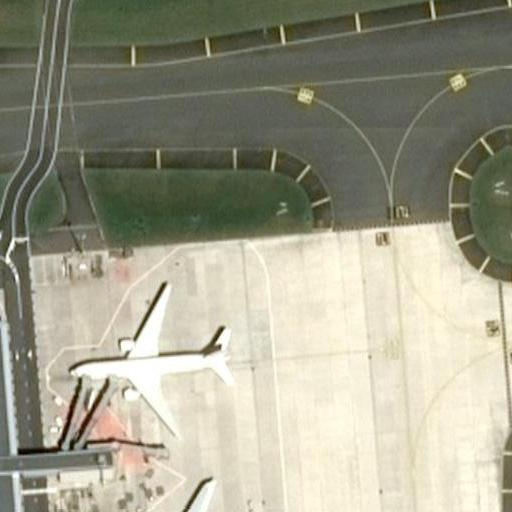Aircraft: (55, 280, 244, 436), (95, 472, 287, 512)
